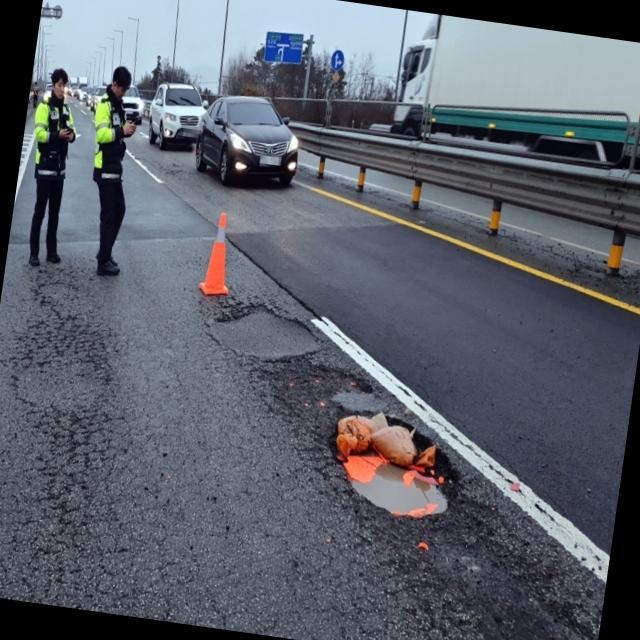pothole: (322, 386, 478, 546), (194, 291, 332, 376)
